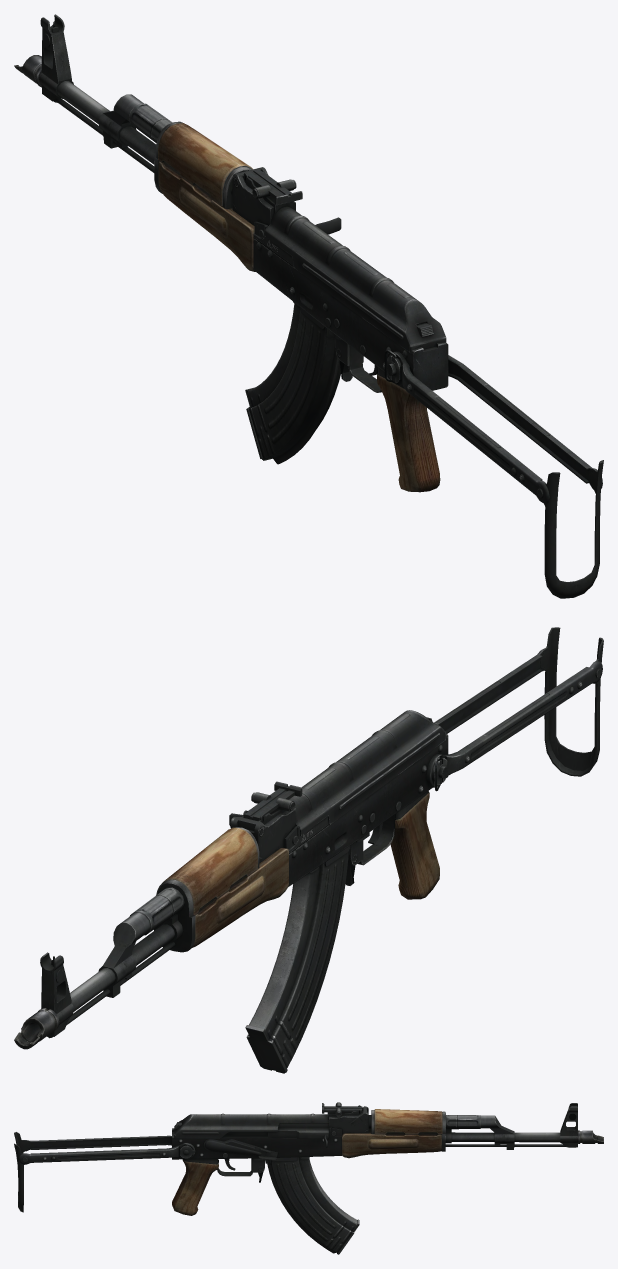
File: rifle_akms.glb
3 renders of one model, top to bottom at view 1: azimuth 30°, elevation 25°; view 2: azimuth 150°, elevation 25°; view 3: azimuth 270°, elevation 25°, orthographic. The views are drawn at different scales.
Parts seen in each view (by area): view 1: custom_akms_body, akms_cs_weapons-akms_magazine; view 2: custom_akms_body, akms_cs_weapons-akms_magazine, akms_muzzel_d; view 3: custom_akms_body, akms_cs_weapons-akms_magazine, akms_cs_weapons-akms_weapon, akms_muzzel_d.
Part boxes in pixels (x1,y1,x2,y2): custom_akms_body: (39,14,603,598); akms_cs_weapons-akms_magazine: (245,301,340,464); custom_akms_body: (40,627,603,1038); akms_cs_weapons-akms_magazine: (245,845,350,1073); akms_muzzel_d: (14,1008,59,1049); custom_akms_body: (14,1102,577,1215); akms_cs_weapons-akms_magazine: (265,1157,359,1254); akms_cs_weapons-akms_weapon: (258,1123,328,1182); akms_muzzel_d: (578,1130,603,1143).
Bounding box in the file's own units: 0.0742 × 0.2311 × 0.8316.
Materials: 4 (4 with a texture image).
